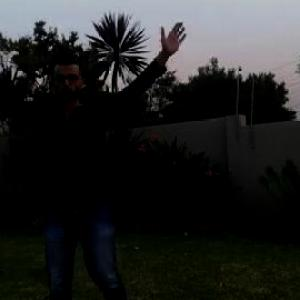takeoff: (1, 30, 185, 299)
